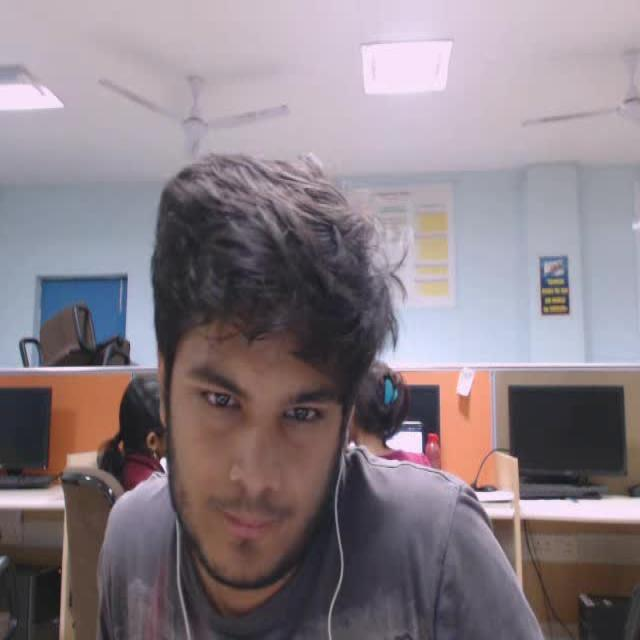Engaged: (104, 120, 412, 606)
